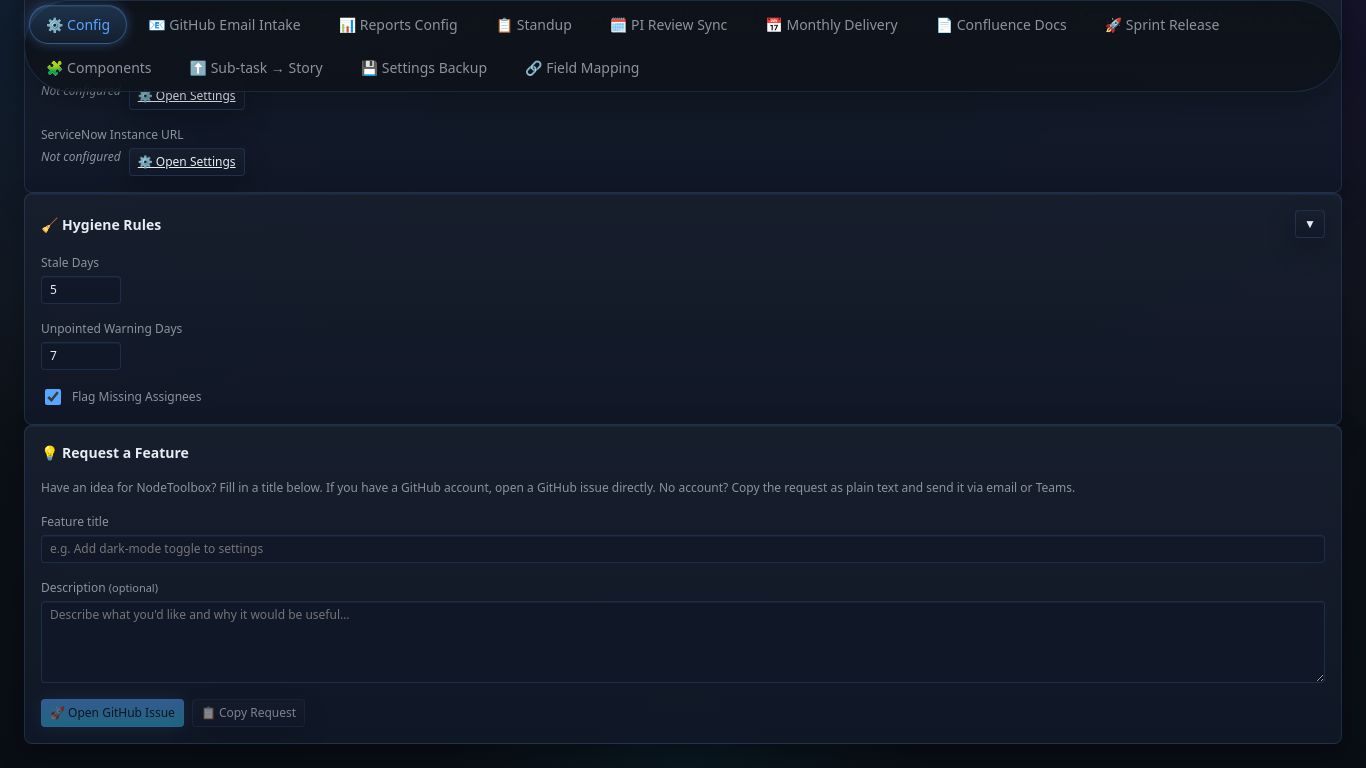
Scenario: Feature Request section › shows a browser-tab confirmation message after GitHub submission
(page scrolled)
In the field labelled "Feature title": (683, 549) [41,535,1325,563], type "My feature"
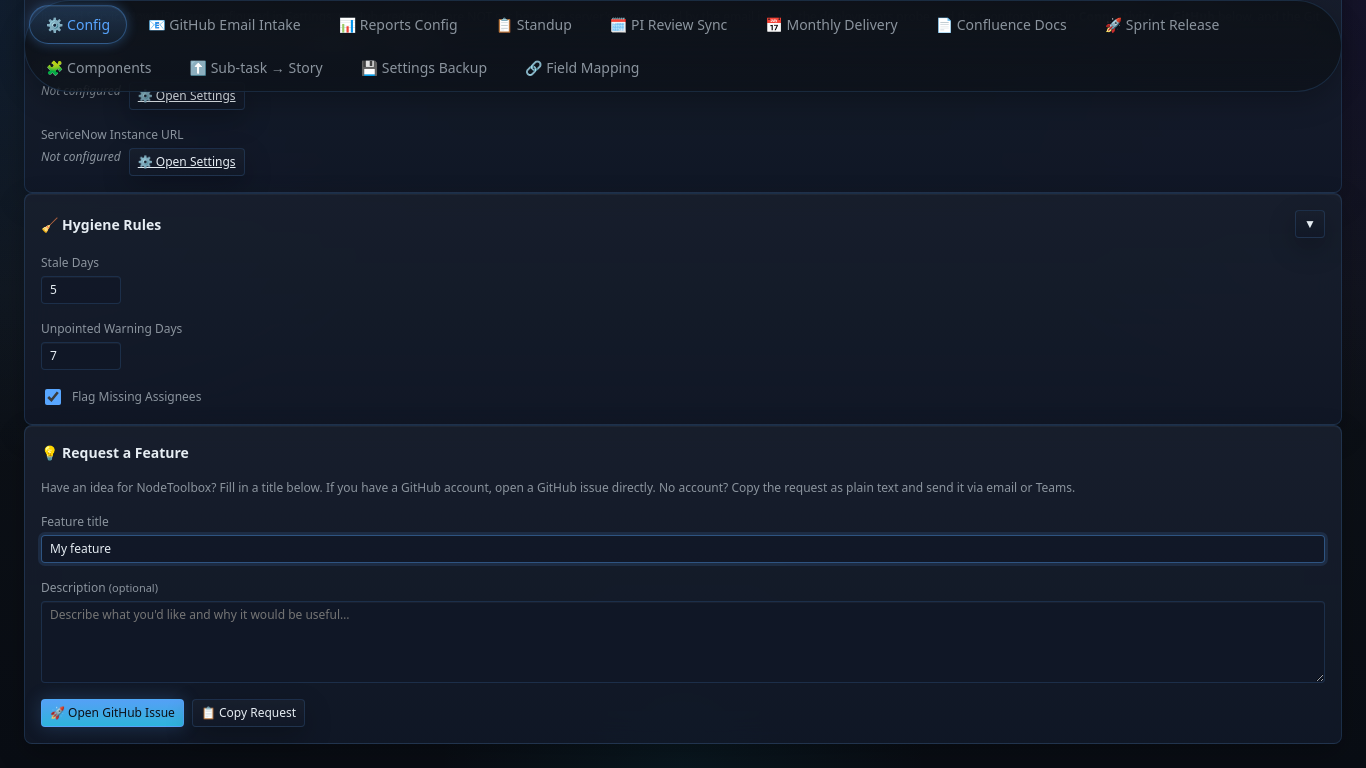
Click the button "🚀 Open GitHub Issue": click(112, 713) [41,699,184,727]
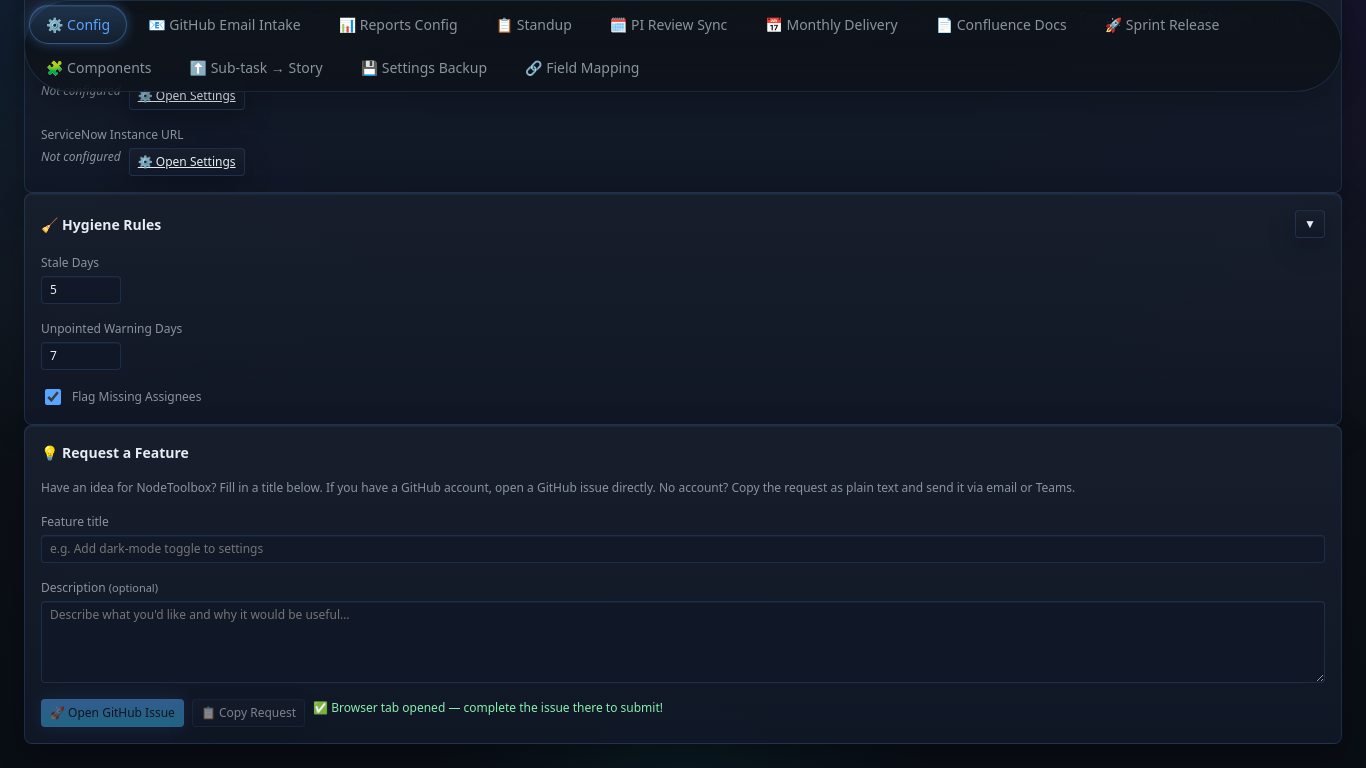
Expected: the text "✅ Browser tab opened — complete the issue there to submit!" is shown, [313,699,663,727]
